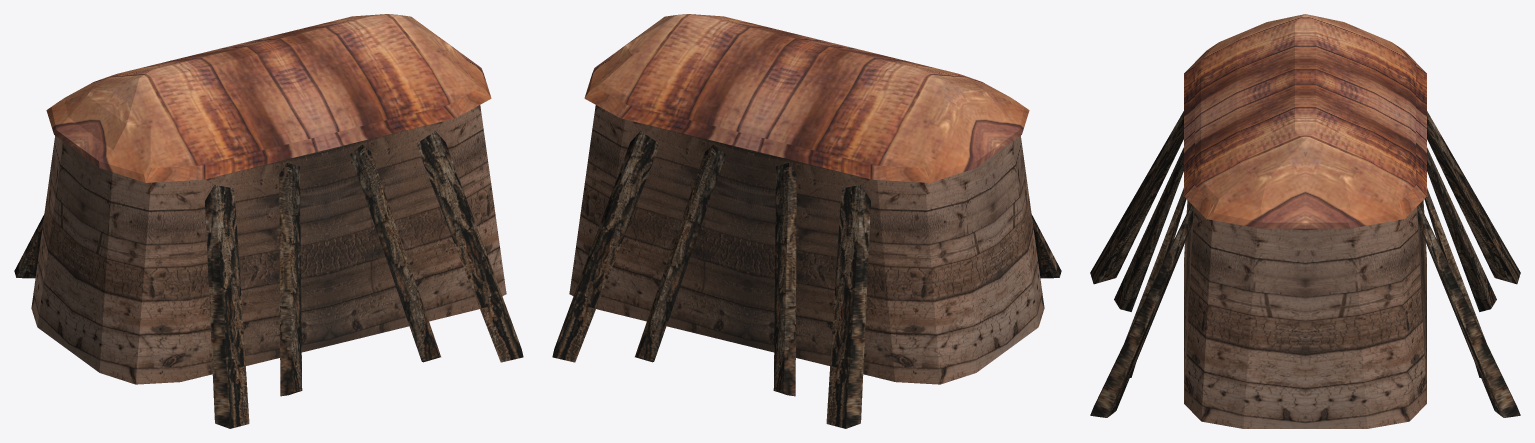
Rendered from kasteel.fbx.
3 views of the same model, side by side, from view 1: azimuth 30°, elevation 25°; view 2: azimuth 150°, elevation 25°; view 3: azimuth 270°, elevation 25° (orthographic).
Parts seen in each view (by area): view 1: Cube; view 2: Cube; view 3: Cube.
Boxes of the visible parts, bbox=[...] form: Cube: bbox=[14, 14, 523, 428]; Cube: bbox=[552, 14, 1061, 428]; Cube: bbox=[1090, 14, 1520, 428].
Bounding box in the file's own units: 381 × 244 × 355.
